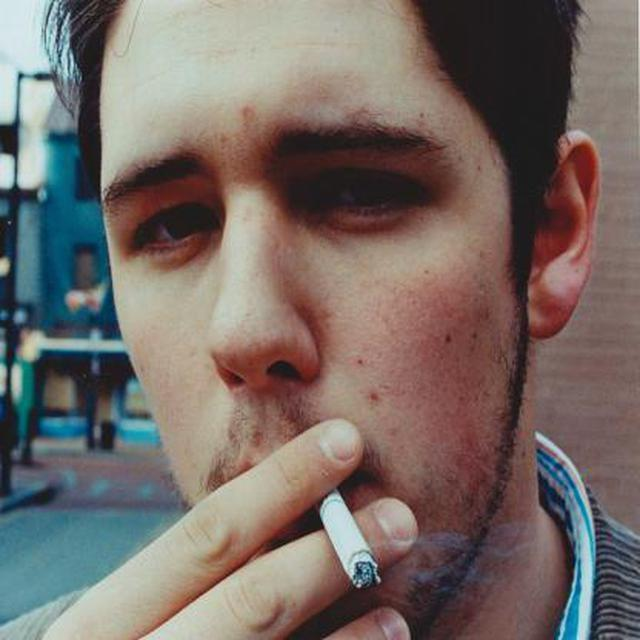smoking: (300, 477, 390, 598)
